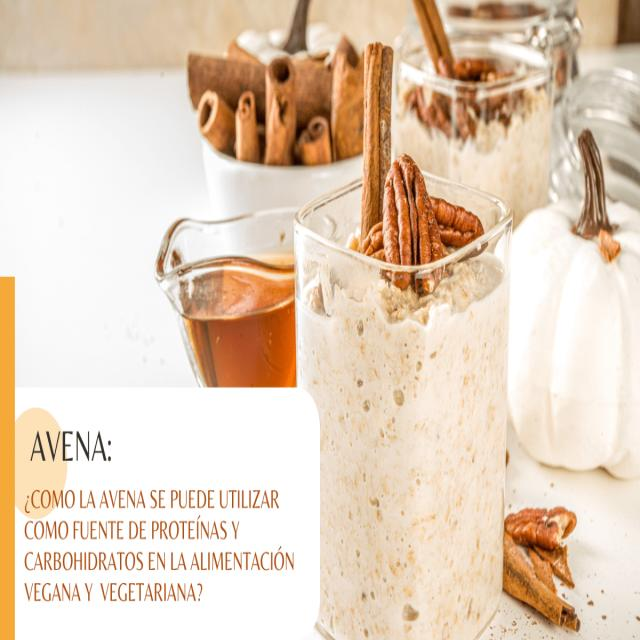avena: (298, 279, 508, 365)
